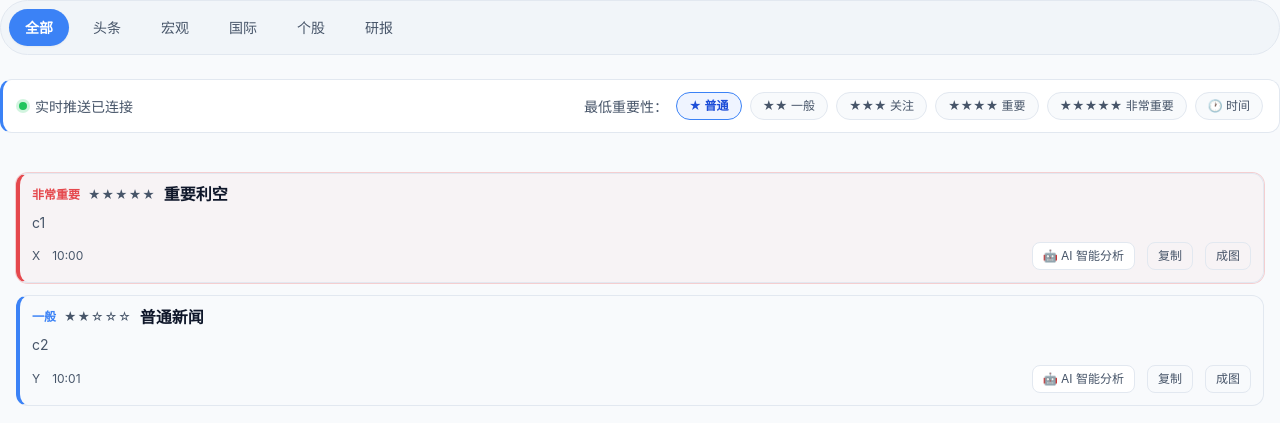
Test: NewsView › switches to macro tab and loads macro endpoint (F29)
The image size is (1280, 423).
Click the tab with class "news-tab" showing "宏观": (175, 28) [145, 9, 205, 46]
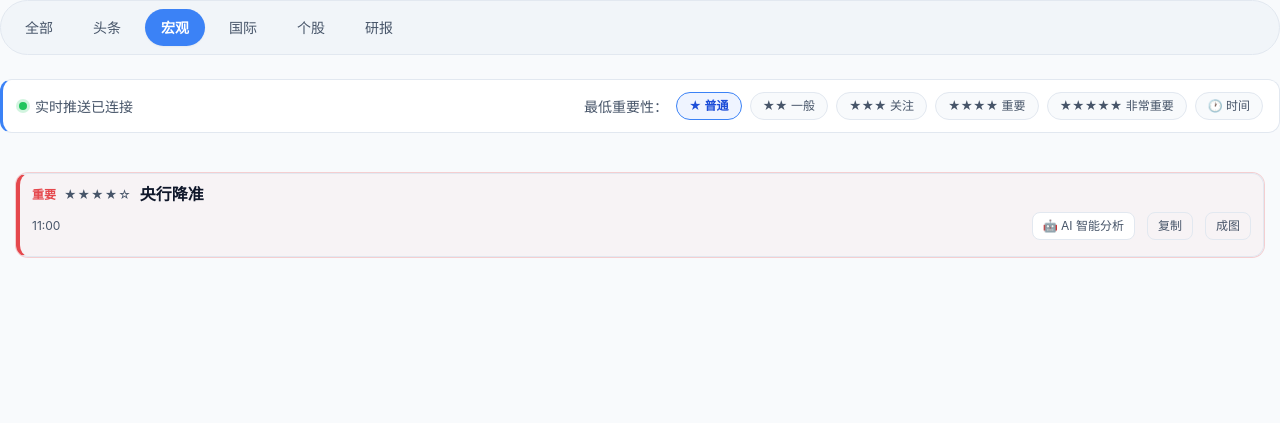
Expected: the number of list items with class "news-item" is 1, [16, 173, 1264, 257]
Expected: the text "央行降准" is shown, [140, 186, 204, 204]
